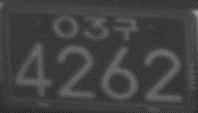0: (53, 14, 80, 39)
2: (142, 47, 183, 103), (56, 43, 96, 98)
3: (82, 15, 109, 40)
4: (16, 41, 53, 96)
6: (101, 46, 139, 101)
구: (112, 16, 140, 41)
